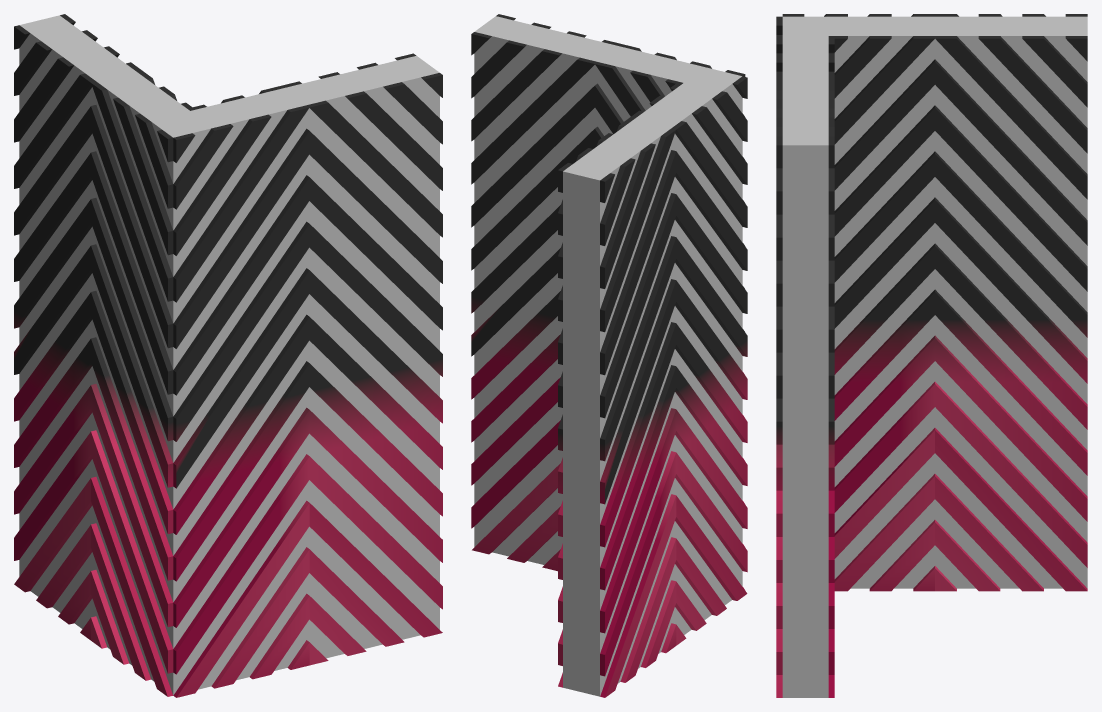
Rendered from ArrowCorner.glb.
The picture shows the model from 3 angles, left to right: view 1: azimuth 30°, elevation 25°; view 2: azimuth 150°, elevation 25°; view 3: azimuth 270°, elevation 25°; orthographic projection. The views are drawn at different scales.
Parts seen in each view (by area): view 1: wall_arrow_corner; view 2: wall_arrow_corner; view 3: wall_arrow_corner.
Boxes of the visible parts, x1,y1,x2,y2 form: wall_arrow_corner: (14, 14, 442, 697); wall_arrow_corner: (471, 14, 747, 697); wall_arrow_corner: (776, 14, 1087, 697).
Size of what is drawn, in the model's own units: 2.04 by 4 by 2.04.
1 material, 1 textured.
